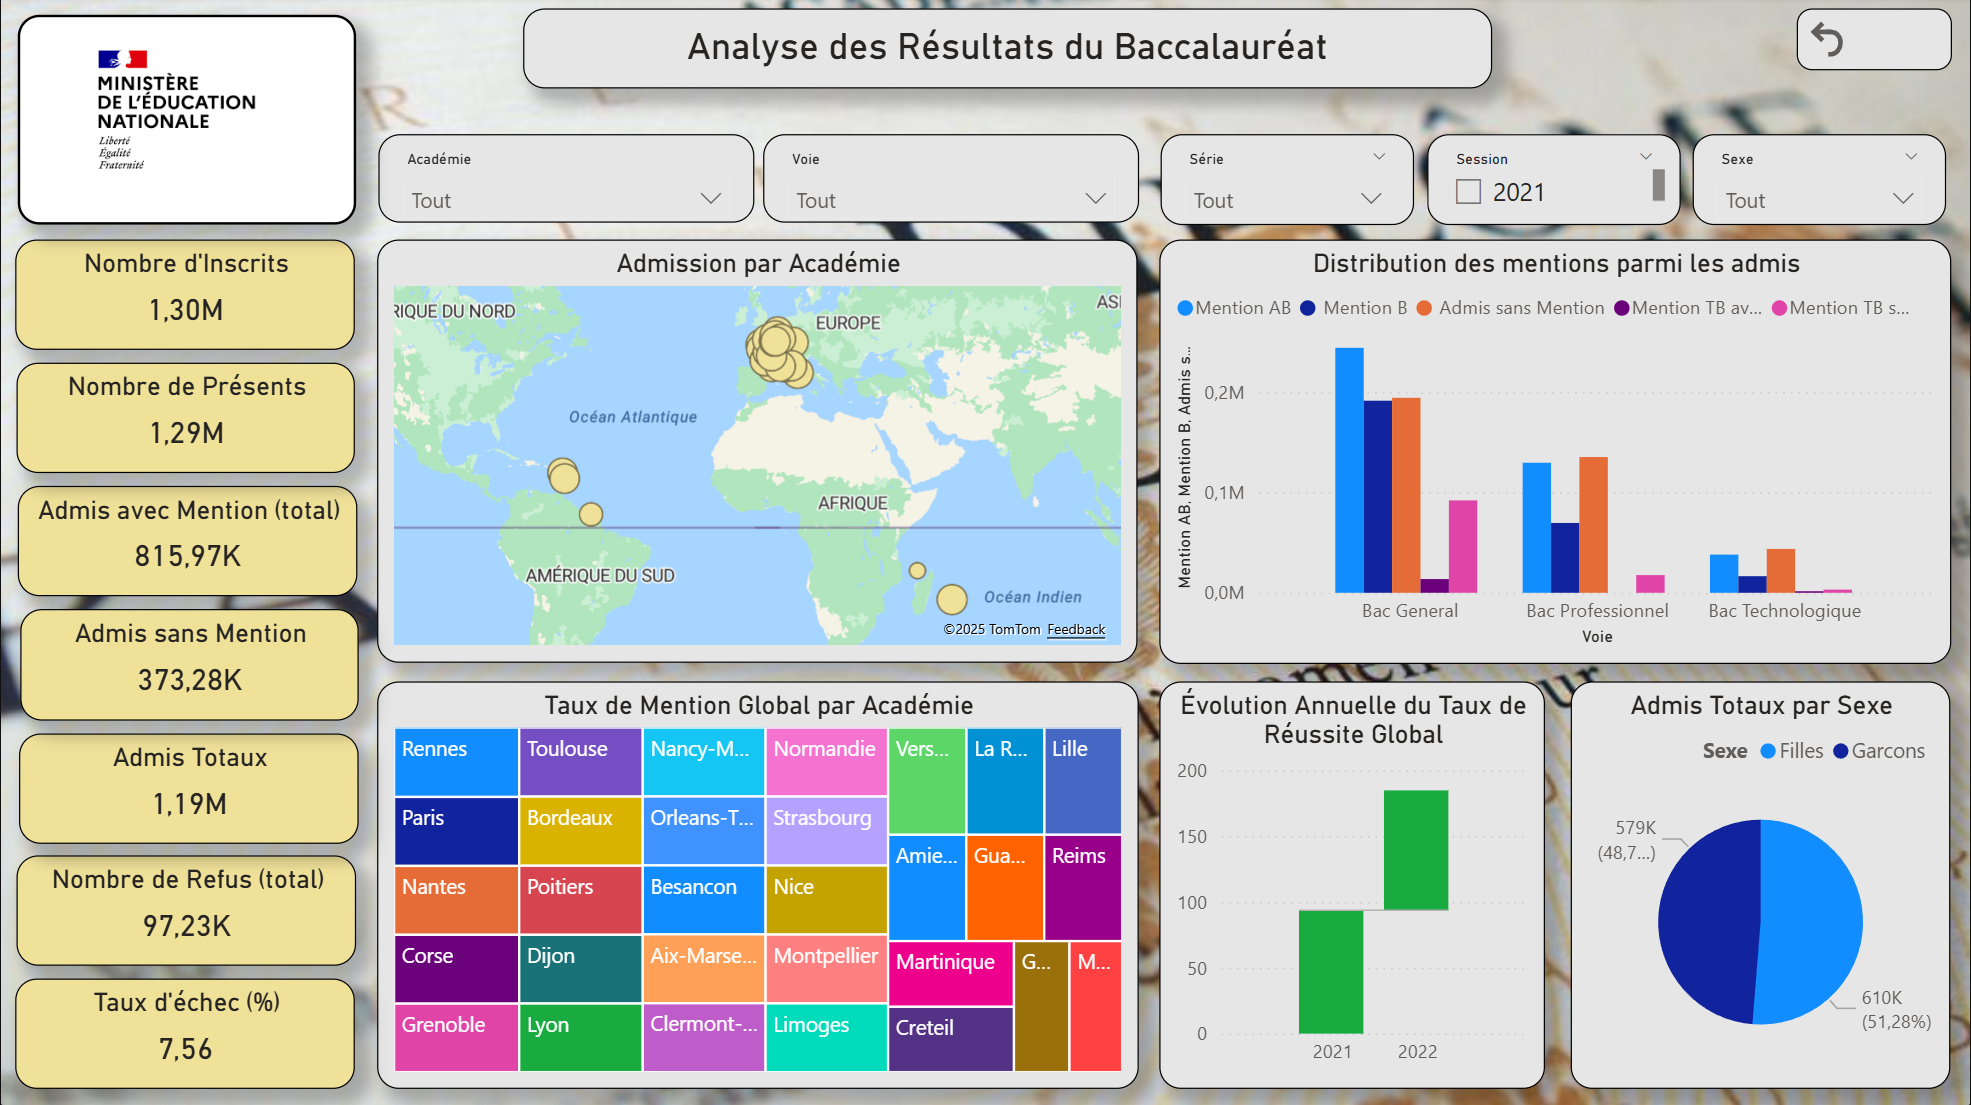

The page's visual inventory and layout, read from the dashboard file:
{"tool":"powerbi","page":{"name":"BAC ACADEMIE","canvas":[1280,720],"ordinal":0},"visuals":[{"type":"card","title":"Admis avec Mention (total)","fields":{"Values":["Mesure.Admis avec mention (total)"]},"box":[11.9,319.3,220.7,71.2],"z":0},{"type":"card","title":"Nombre d''Inscrits","fields":{"Values":["Sum(Bac Académie.Nombre d'Inscrits)"]},"box":[10,157.9,220.8,72],"z":1000},{"type":"card","title":"Nombre de Présents","fields":{"Values":["Sum(Bac Académie.Nombre de Présents)"]},"box":[11,237.7,220,72],"z":2000},{"type":"card","title":"Nombre de Refus (total)","fields":{"Values":["Sum(Bac Académie.Nombre de Refusés Totaux)"]},"box":[11,557.8,220.8,72],"z":3000},{"type":"slicer","fields":{"Values":["Bac Académie.Sexe"]},"box":[1099.1,90.7,165,58],"z":4000},{"type":"slicer","fields":{"Values":["Bac Académie.Voie"]},"box":[491.7,89.2,247.4,57.8],"z":5000},{"type":"slicer","fields":{"Values":["Bac Académie.Série"]},"box":[753.7,89.9,165,58.5],"z":6000},{"type":"slicer","fields":{"Values":["Bac Académie.Session"]},"box":[926.4,90.7,165,58],"z":7000},{"type":"azureMap","title":" Admission par Académie","fields":{"Category":["Bac Académie.Académie"],"Size":["Mesure.Taux de réussite (%)"]},"box":[244.9,157.5,493.9,274.6],"z":8000},{"type":"treemap","title":"Taux de Mention Global par Académie","fields":{"Group":["Bac Académie.Académie"],"Values":["Mesure.Taux de réussite (%)"]},"box":[244.9,444.4,494.7,264.7],"z":9000},{"type":"slicer","fields":{"Values":["Bac Académie.Académie"]},"box":[245.3,89.2,239.3,57.8],"z":10000},{"type":"textbox","box":[340,7.4,629.4,51.7],"z":11000},{"type":"card","title":"Admis Totaux","fields":{"Values":["Sum(Bac Académie.Admis totaux)"]},"box":[12.4,478.3,220.6,71.6],"z":12000},{"type":"clusteredColumnChart","title":"Distribution des mentions parmi les admis","fields":{"Category":["Bac Académie.Voie"],"Y":["Sum(Bac Académie.Admis avec mention AB)","Sum(Bac Académie.Admis avec Mention B)","Sum(Bac Académie.Admis sans Mention)","Sum(Bac Académie.Admis avec mention TB avec les félicitations du jury)","Sum(Bac Académie.Admis avec mention TB sans les félicitations du jury)"]},"box":[752.8,157.5,514.5,275.4],"z":13000},{"type":"card","title":"Admis sans Mention","fields":{"Values":["Sum(Bac Académie.Admis sans Mention)"]},"box":[13.4,397.9,219.7,72.6],"z":14000},{"type":"actionButton","box":[1166.6,7.6,100.5,39.8],"z":15000},{"type":"card","title":"Taux d''échec (%)","fields":{"Values":["Mesure.Taux d'échec (%)"]},"box":[10,637.6,220.8,72],"z":16000},{"type":"waterfallChart","title":"Évolution Annuelle du Taux de Réussite Global","fields":{"Category":["Bac Académie.Session"],"Y":["Mesure.Taux de réussite (%)"]},"box":[752.8,444.4,250.7,264.7],"z":17000},{"type":"image","box":[11.2,11.2,220,135.9],"z":18000},{"type":"pieChart","title":"Admis Totaux par Sexe","fields":{"Category":["Bac Académie.Sexe"],"Y":["Sum(Bac Académie.Admis totaux)"]},"box":[1020,444.4,246.5,264.7],"z":19000}]}

Visuals, with their boxes in screenshot pixels (x1, y1, x2, y2), scaled from the page's 1280x720 canvas onto the 1971x1105 screenshot:
"Admis avec Mention (total)" card: select_region(18, 490, 358, 599)
"Nombre d''Inscrits" card: select_region(15, 242, 355, 353)
"Nombre de Présents" card: select_region(17, 365, 356, 475)
"Nombre de Refus (total)" card: select_region(17, 856, 357, 967)
slicer - Bac Académie.Sexe: select_region(1692, 139, 1947, 228)
slicer - Bac Académie.Voie: select_region(757, 137, 1138, 226)
slicer - Bac Académie.Série: select_region(1161, 138, 1415, 228)
slicer - Bac Académie.Session: select_region(1427, 139, 1681, 228)
" Admission par Académie" azureMap: select_region(377, 242, 1138, 663)
"Taux de Mention Global par Académie" treemap: select_region(377, 682, 1139, 1088)
slicer - Bac Académie.Académie: select_region(378, 137, 746, 226)
textbox: select_region(524, 11, 1493, 91)
"Admis Totaux" card: select_region(19, 734, 359, 844)
"Distribution des mentions parmi les admis" clusteredColumnChart: select_region(1159, 242, 1951, 664)
"Admis sans Mention" card: select_region(21, 611, 359, 722)
actionButton: select_region(1796, 12, 1951, 73)
"Taux d''échec (%)" card: select_region(15, 979, 355, 1089)
"Évolution Annuelle du Taux de Réussite Global" waterfallChart: select_region(1159, 682, 1545, 1088)
image: select_region(17, 17, 356, 226)
"Admis Totaux par Sexe" pieChart: select_region(1571, 682, 1950, 1088)
